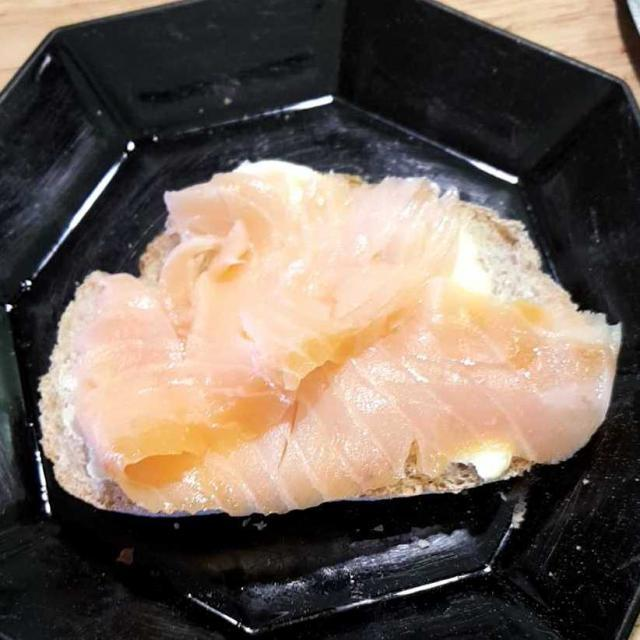bread: (22, 162, 618, 514)
salmon: (47, 164, 628, 509)
